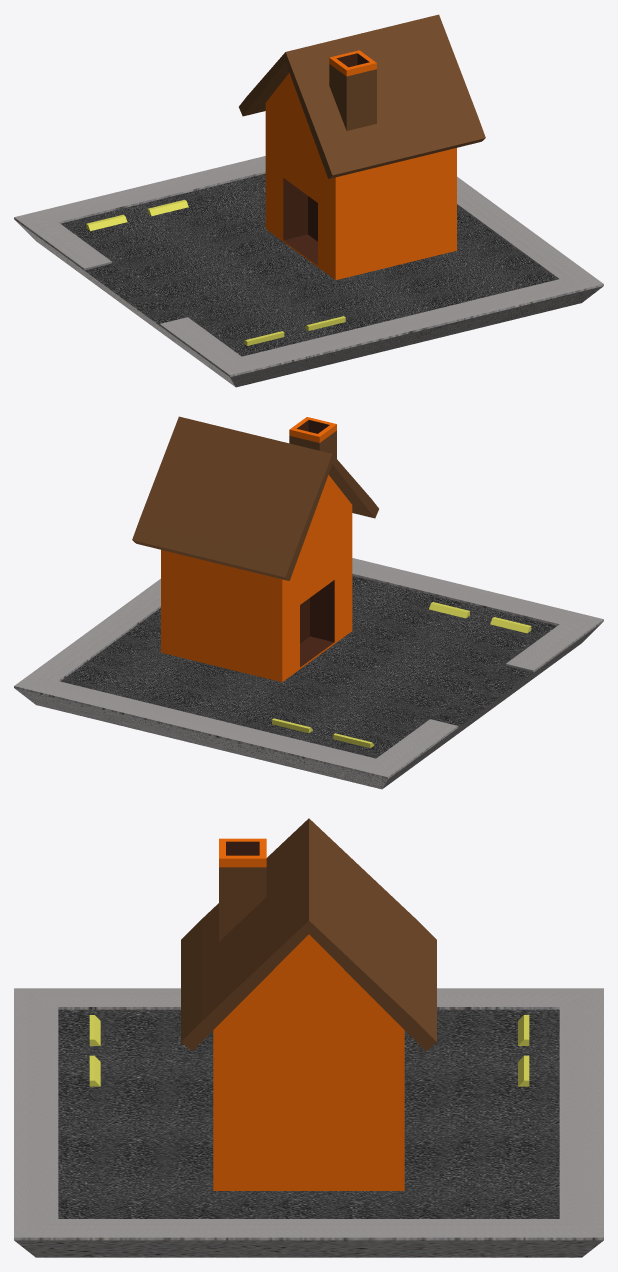
File: Ex_House.glb
3 views of the same model, one above another, from view 1: azimuth 30°, elevation 25°; view 2: azimuth 150°, elevation 25°; view 3: azimuth 270°, elevation 25° (orthographic). The views are drawn at different scales.
Parts seen in each view (by area): view 1: Street-col, Cube; view 2: Street-col, Cube; view 3: Street-col, Cube.
Part boxes in pixels (box(x1,y1,x2,y2)): Street-col: box(14, 156, 603, 387); Cube: box(239, 14, 485, 279); Street-col: box(14, 558, 603, 789); Cube: box(132, 416, 378, 681); Street-col: box(14, 988, 603, 1257); Cube: box(181, 818, 436, 1190).
Size of the model in its own units: 2 by 1.15 by 2.
Materials: 9 (3 with a texture image).
